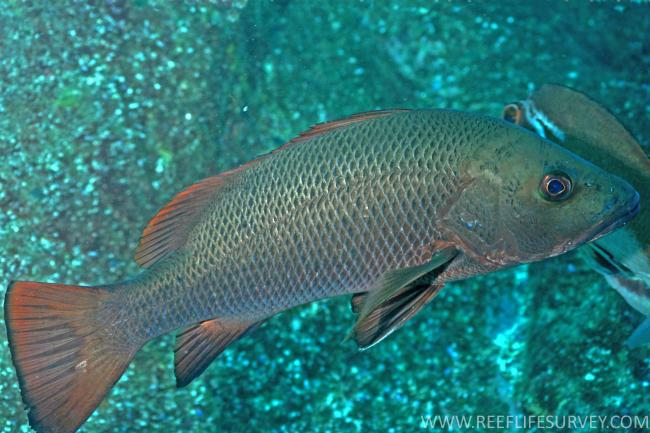fish: (4, 109, 641, 433)
